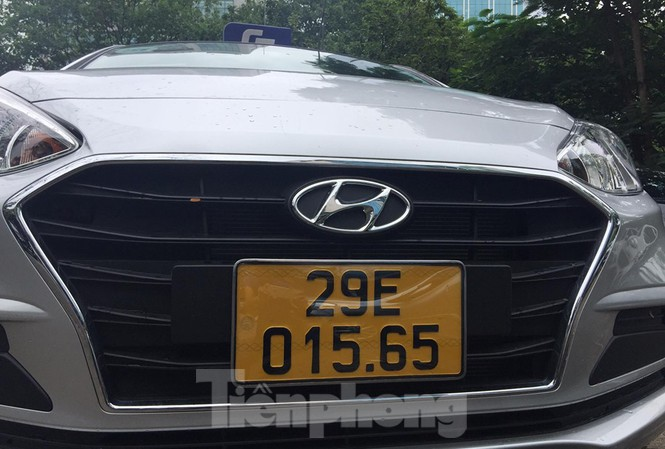plate: (229, 258, 466, 380)
